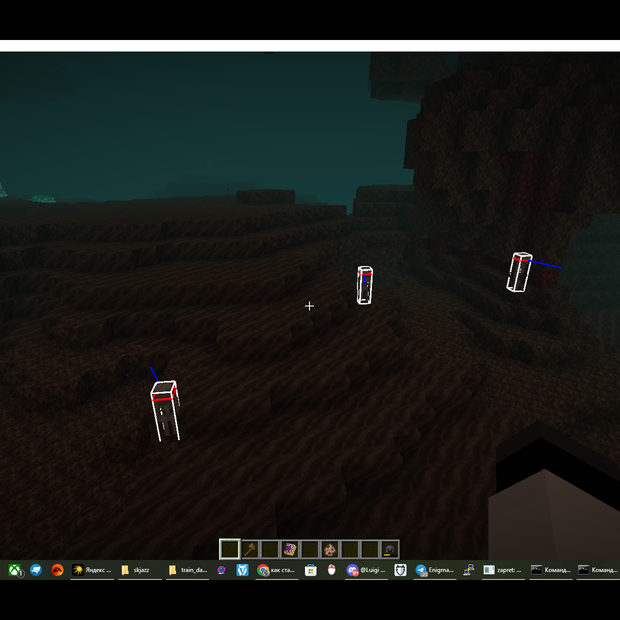target: (149, 380, 182, 441), (505, 251, 533, 291), (356, 266, 373, 306)
